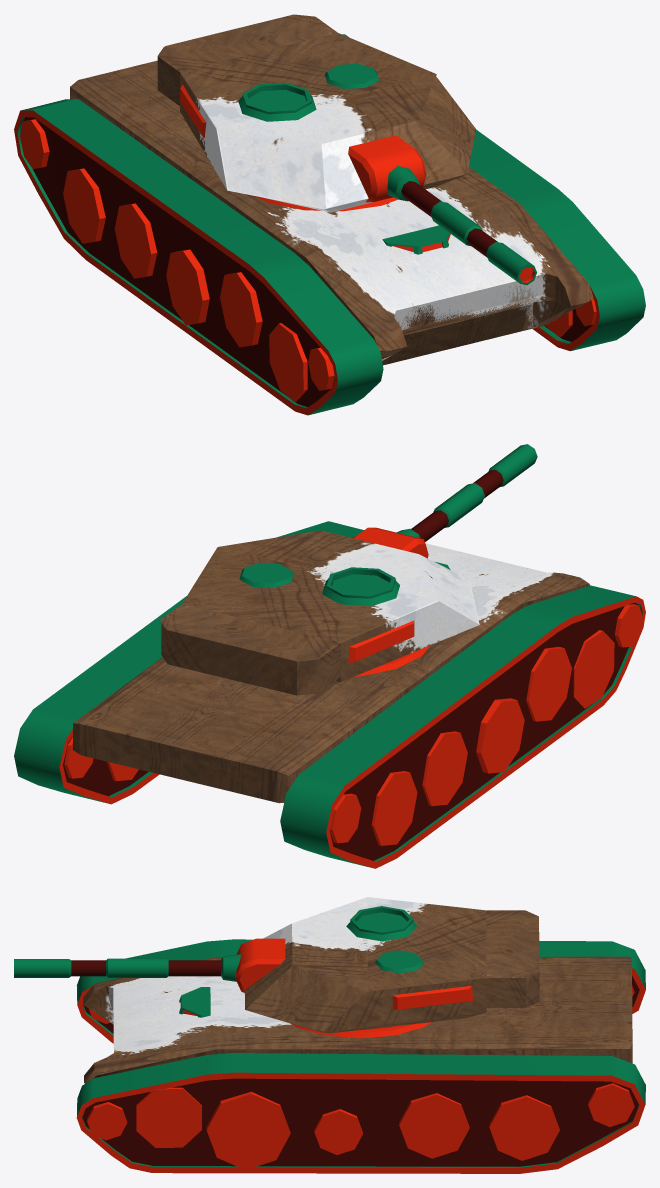
The model's file is Tank.glb.
The picture shows the model from 3 angles, top to bottom: view 1: azimuth 30°, elevation 25°; view 2: azimuth 150°, elevation 25°; view 3: azimuth 270°, elevation 25°; orthographic projection. The views are drawn at different scales.
Visible parts, largest first — view 1: Tank; view 2: Tank; view 3: Tank.
Part boxes in pixels (box(x1,y1,x2,y2)): Tank: box(14, 14, 645, 415); Tank: box(14, 444, 645, 868); Tank: box(14, 897, 645, 1173).
Bounding box in the file's own units: 12.1 × 6.92 × 23.39.
Materials: 2 (2 with a texture image).
